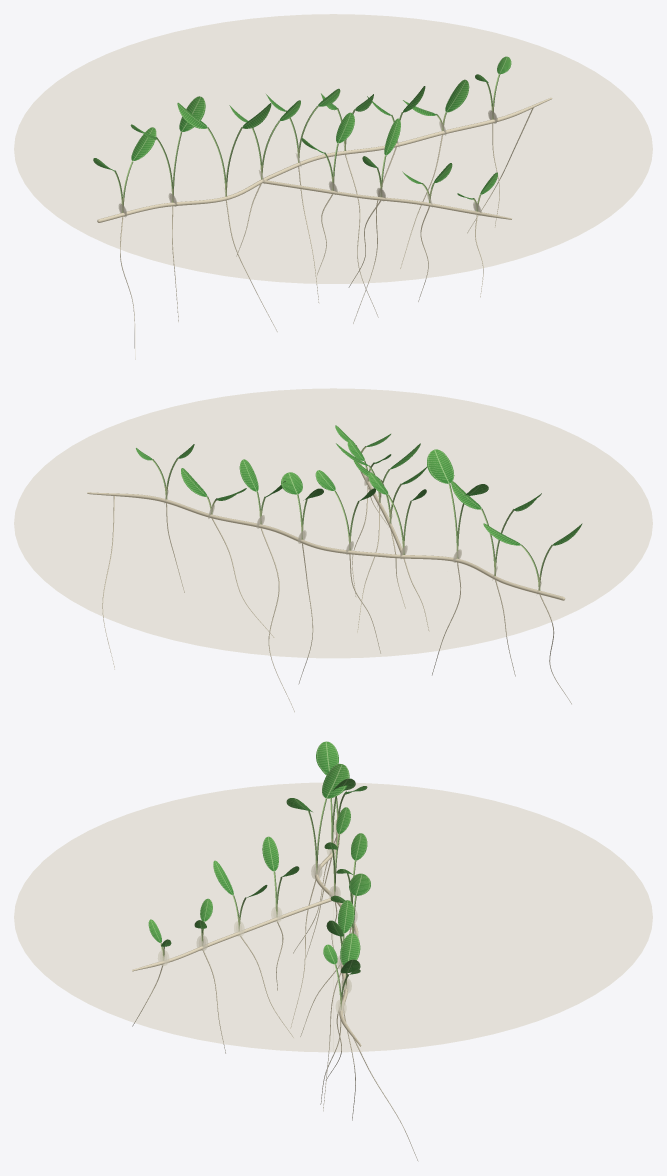
File: halophila-ovalis.glb
The picture shows the model from 3 angles, top to bottom: view 1: azimuth 30°, elevation 25°; view 2: azimuth 150°, elevation 25°; view 3: azimuth 270°, elevation 25°; orthographic projection.
Visible parts, largest first — view 1: Sediment, LeafBlades, Rhizome, Roots, Petioles, Scales; view 2: Sediment, LeafBlades, Rhizome, Roots, Petioles, Scales; view 3: Sediment, LeafBlades, Roots, Petioles, Rhizome, Scales.
Part boxes in pixels (left/top/right/bottom): Sediment: left=14, top=14, right=652, bottom=283; LeafBlades: left=93, top=56, right=511, bottom=199; Rhizome: left=97, top=97, right=552, bottom=222; Roots: left=120, top=108, right=533, bottom=359; Petioles: left=114, top=74, right=500, bottom=212; Scales: left=119, top=110, right=497, bottom=216; Sediment: left=14, top=388, right=652, bottom=657; LeafBlades: left=136, top=425, right=582, bottom=545; Rhizome: left=87, top=463, right=565, bottom=600; Roots: left=102, top=486, right=571, bottom=712; Petioles: left=152, top=445, right=552, bottom=590; Scales: left=164, top=472, right=541, bottom=590; Sediment: left=14, top=783, right=652, bottom=1051; LeafBlades: left=148, top=741, right=370, bottom=976; Roots: left=132, top=837, right=418, bottom=1161; Petioles: left=160, top=791, right=356, bottom=1009; Rhizome: left=132, top=820, right=361, bottom=1046; Scales: left=158, top=820, right=358, bottom=1014.
Size of the model in its own units: 0.298 by 0.1383 by 0.298.
Materials: 6 (1 with a texture image).
